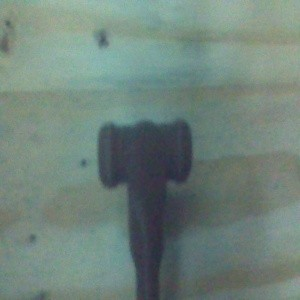palu: (96, 116, 193, 300)
